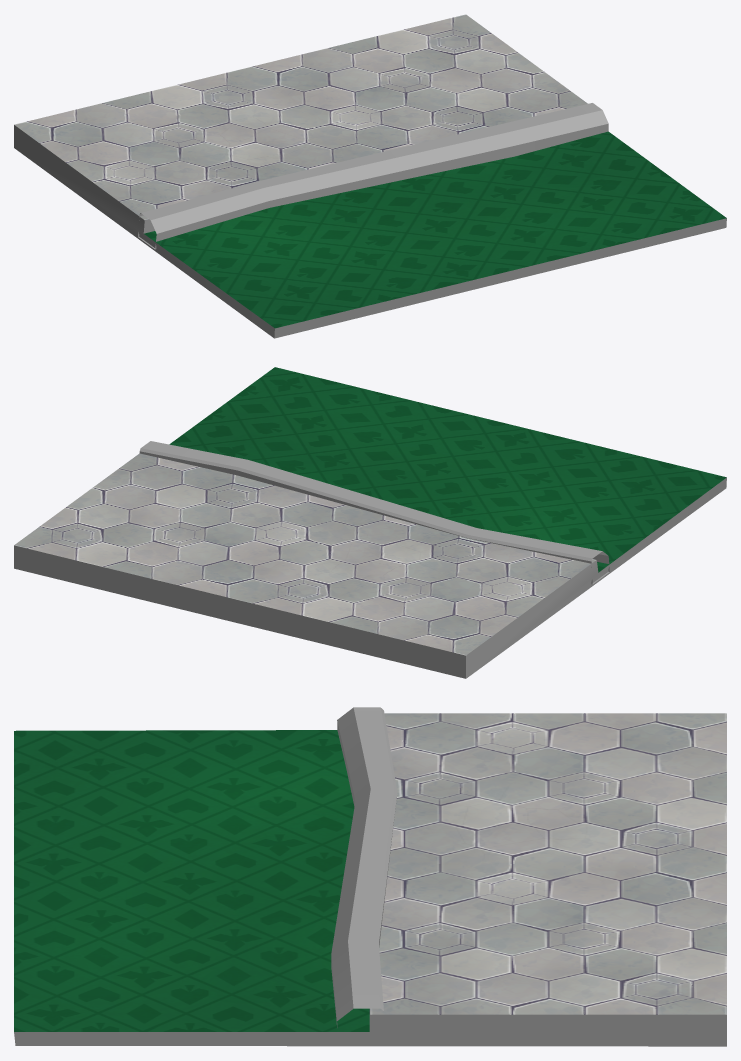
Rendered from Pavement_Straight.fbx.
3 views of the same model, one above another, from view 1: azimuth 30°, elevation 25°; view 2: azimuth 150°, elevation 25°; view 3: azimuth 270°, elevation 25° (orthographic). The views are drawn at different scales.
Visible parts, largest first — view 1: W_Sidewalk_Straight_LP4; view 2: W_Sidewalk_Straight_LP4; view 3: W_Sidewalk_Straight_LP4.
Boxes of the visible parts, box(x1,y1,x2,y2) form: W_Sidewalk_Straight_LP4: box(14, 14, 726, 338); W_Sidewalk_Straight_LP4: box(14, 367, 726, 678); W_Sidewalk_Straight_LP4: box(14, 707, 726, 1046).
Bounding box in the file's own units: 201 × 12.91 × 200.
